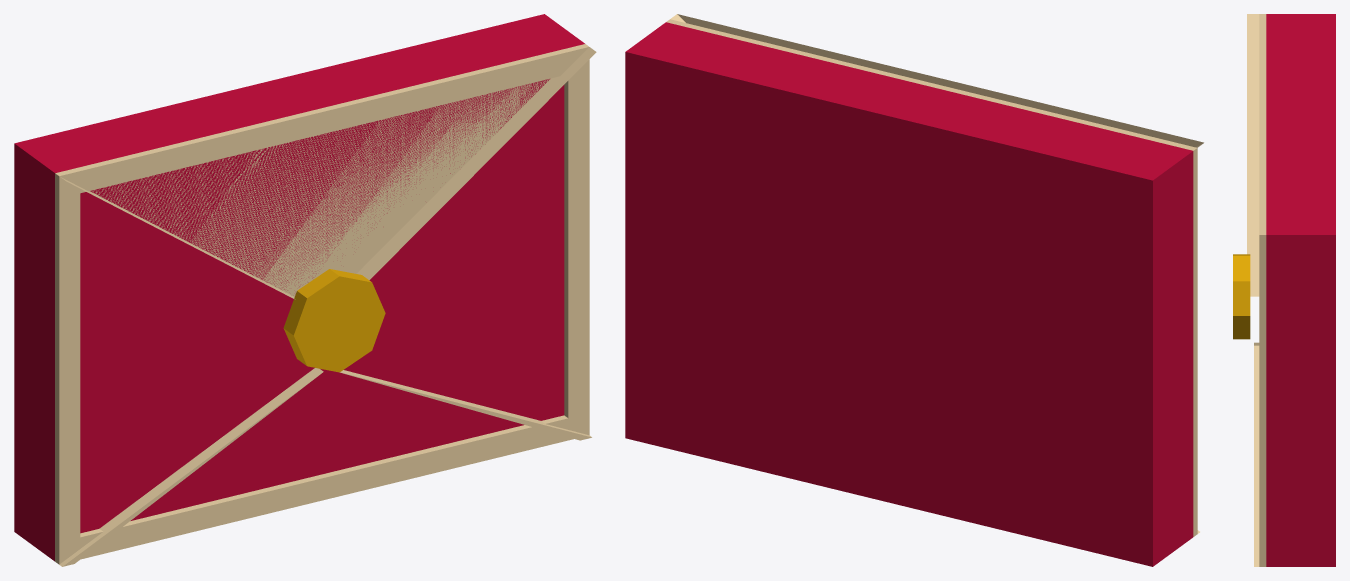
File: envelope.glb
The picture shows the model from 3 angles, left to right: view 1: azimuth 30°, elevation 25°; view 2: azimuth 150°, elevation 25°; view 3: azimuth 270°, elevation 25°; orthographic projection. The views are drawn at different scales.
Parts seen in each view (by area): view 1: body, flap, trim, seal; view 2: body, trim, flap; view 3: body, flap, trim, seal.
Part boxes in pixels (x1,y1,x2,y2): body: (14,14,584,561); flap: (59,47,596,566); trim: (55,44,589,564); seal: (283,269,385,372); body: (625,22,1193,566); trim: (666,19,1197,536); flap: (670,14,1203,533); body: (1266,14,1335,566); flap: (1247,14,1259,566); trim: (1259,14,1266,566); seal: (1233,254,1250,339).
Bounding box in the file's own units: 1.5 × 1.05 × 0.295.
